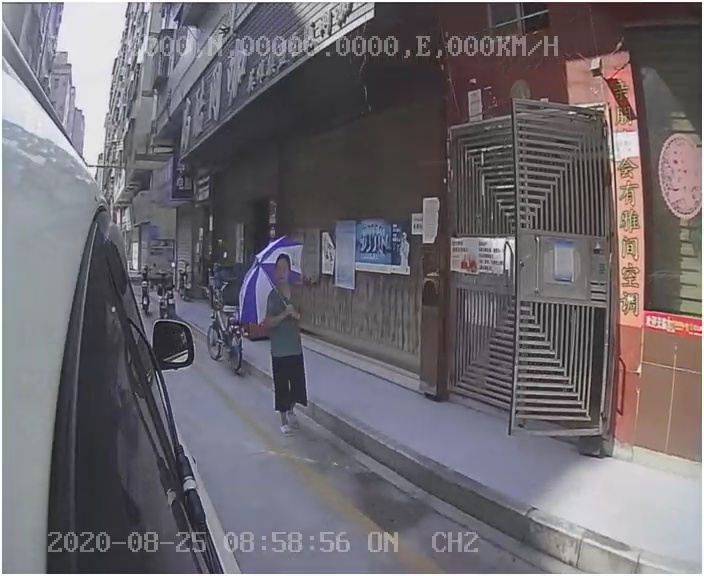person: (256, 257, 323, 436)
